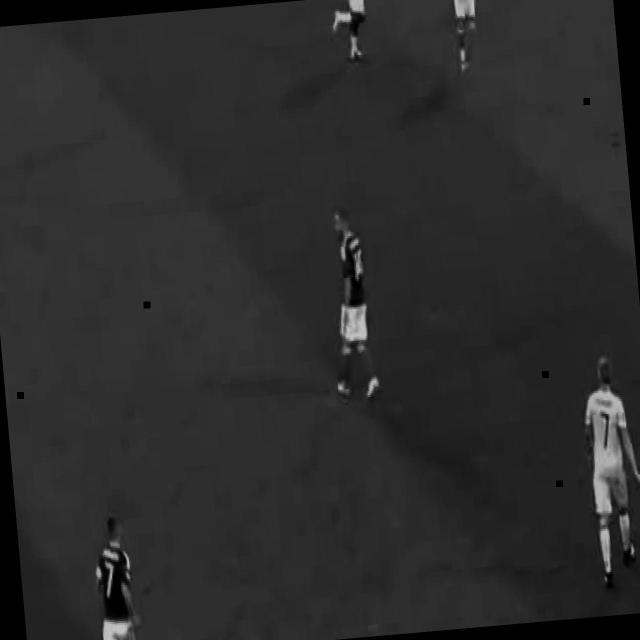player-white: (578, 352, 640, 590), (322, 206, 381, 400), (88, 513, 138, 640), (444, 0, 486, 74), (328, 0, 377, 60)
